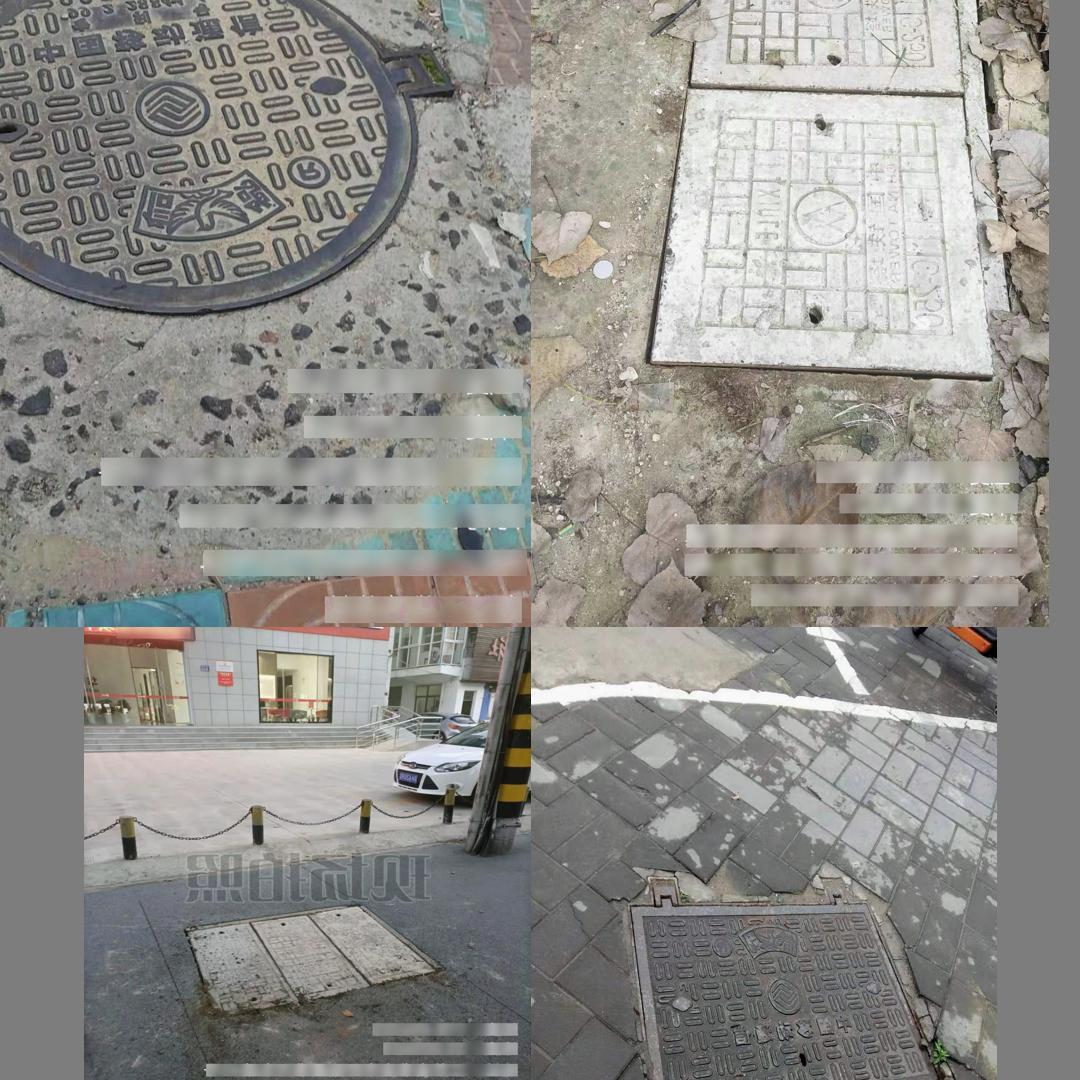good: (0, 0, 454, 315), (642, 0, 999, 375), (626, 881, 941, 1080), (186, 903, 445, 1017)
